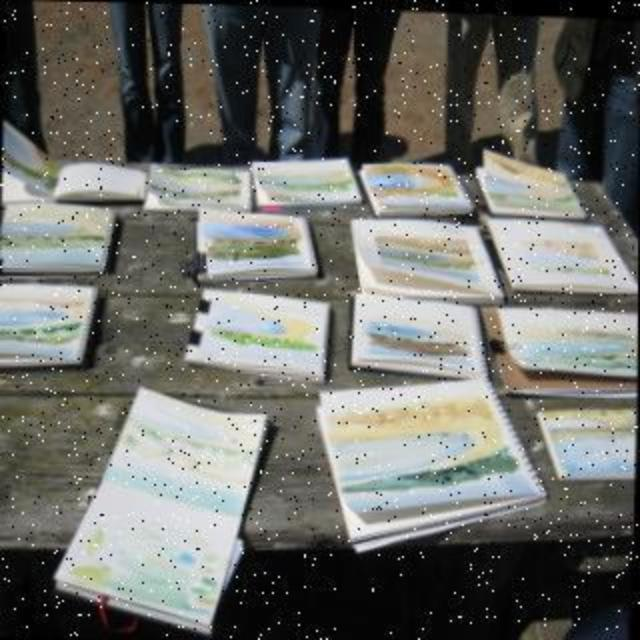book: (30, 390, 284, 628), (306, 360, 552, 554), (180, 286, 340, 382), (342, 208, 504, 300), (482, 208, 638, 292), (342, 292, 490, 376), (188, 206, 318, 292), (356, 148, 480, 216), (248, 144, 366, 214), (472, 154, 596, 216), (142, 152, 252, 212)
